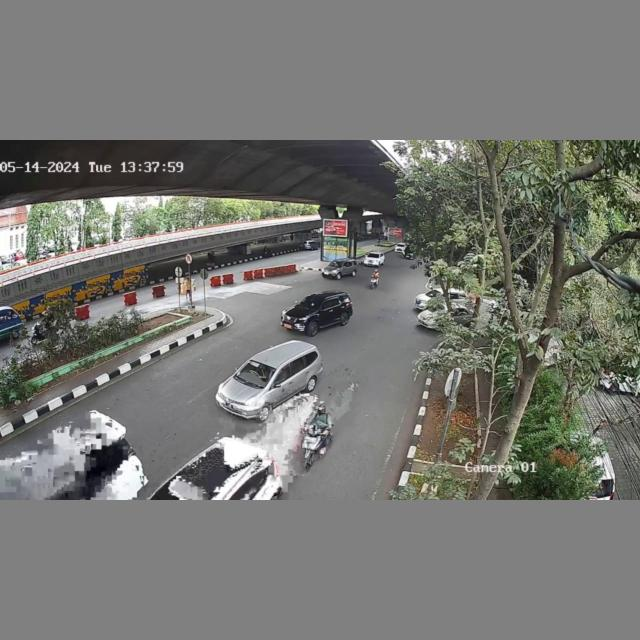windshield: (235, 360, 277, 386), (296, 294, 324, 309)
